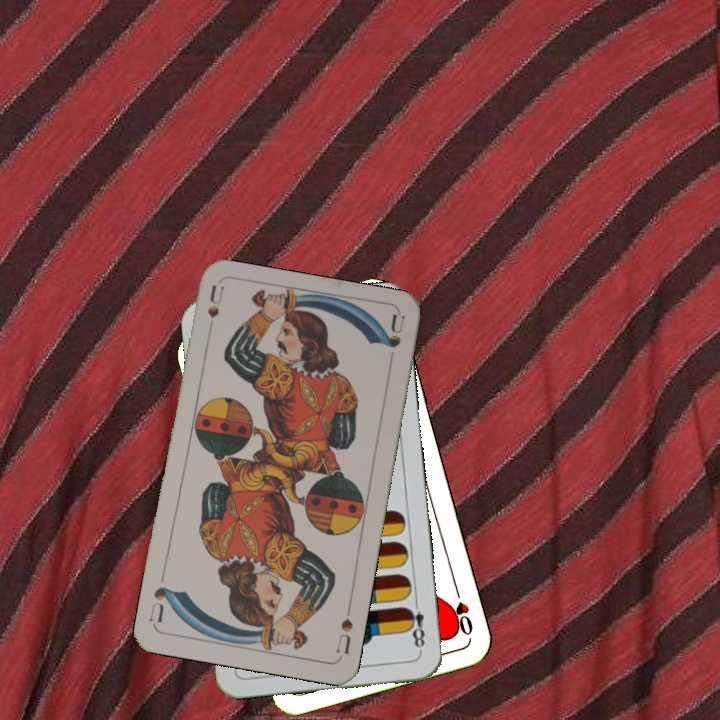E8: (402, 595, 428, 655)
HO: (447, 582, 476, 638)
SU: (203, 282, 227, 342), (332, 601, 356, 659)
